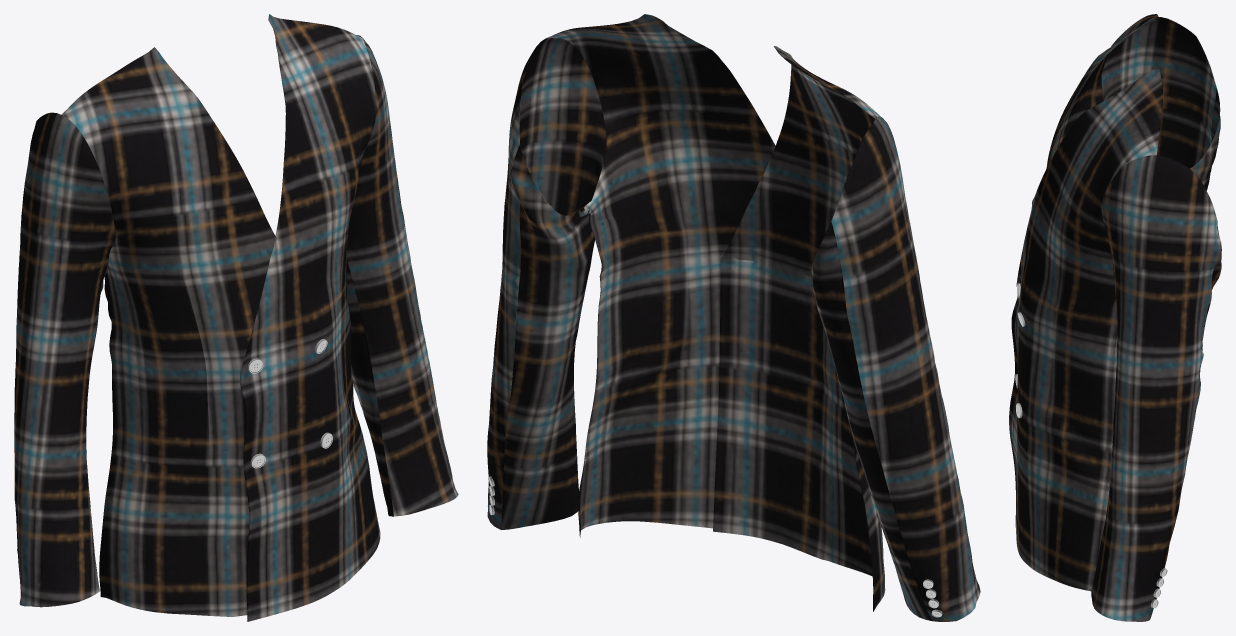
3 renders of one model, left to right at view 1: azimuth 30°, elevation 25°; view 2: azimuth 150°, elevation 25°; view 3: azimuth 270°, elevation 25°, orthographic. The views are drawn at different scales.
Parts seen in each view (by area): view 1: jacket (×5); view 2: jacket (×6); view 3: jacket (×5).
Part boxes in pixels (x1,y1,x2,y2): jacket (×5): (14,14,458,621); jacket (×6): (487,14,980,621); jacket (×5): (1009,14,1221,621).
Bounding box in the file's own units: 629 × 724 × 279.
Materials: 18 (18 with a texture image).
